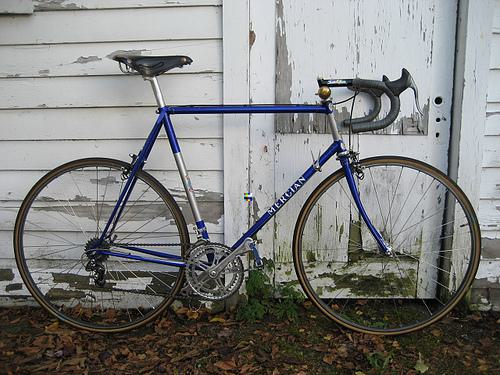car: (14, 54, 483, 340)
